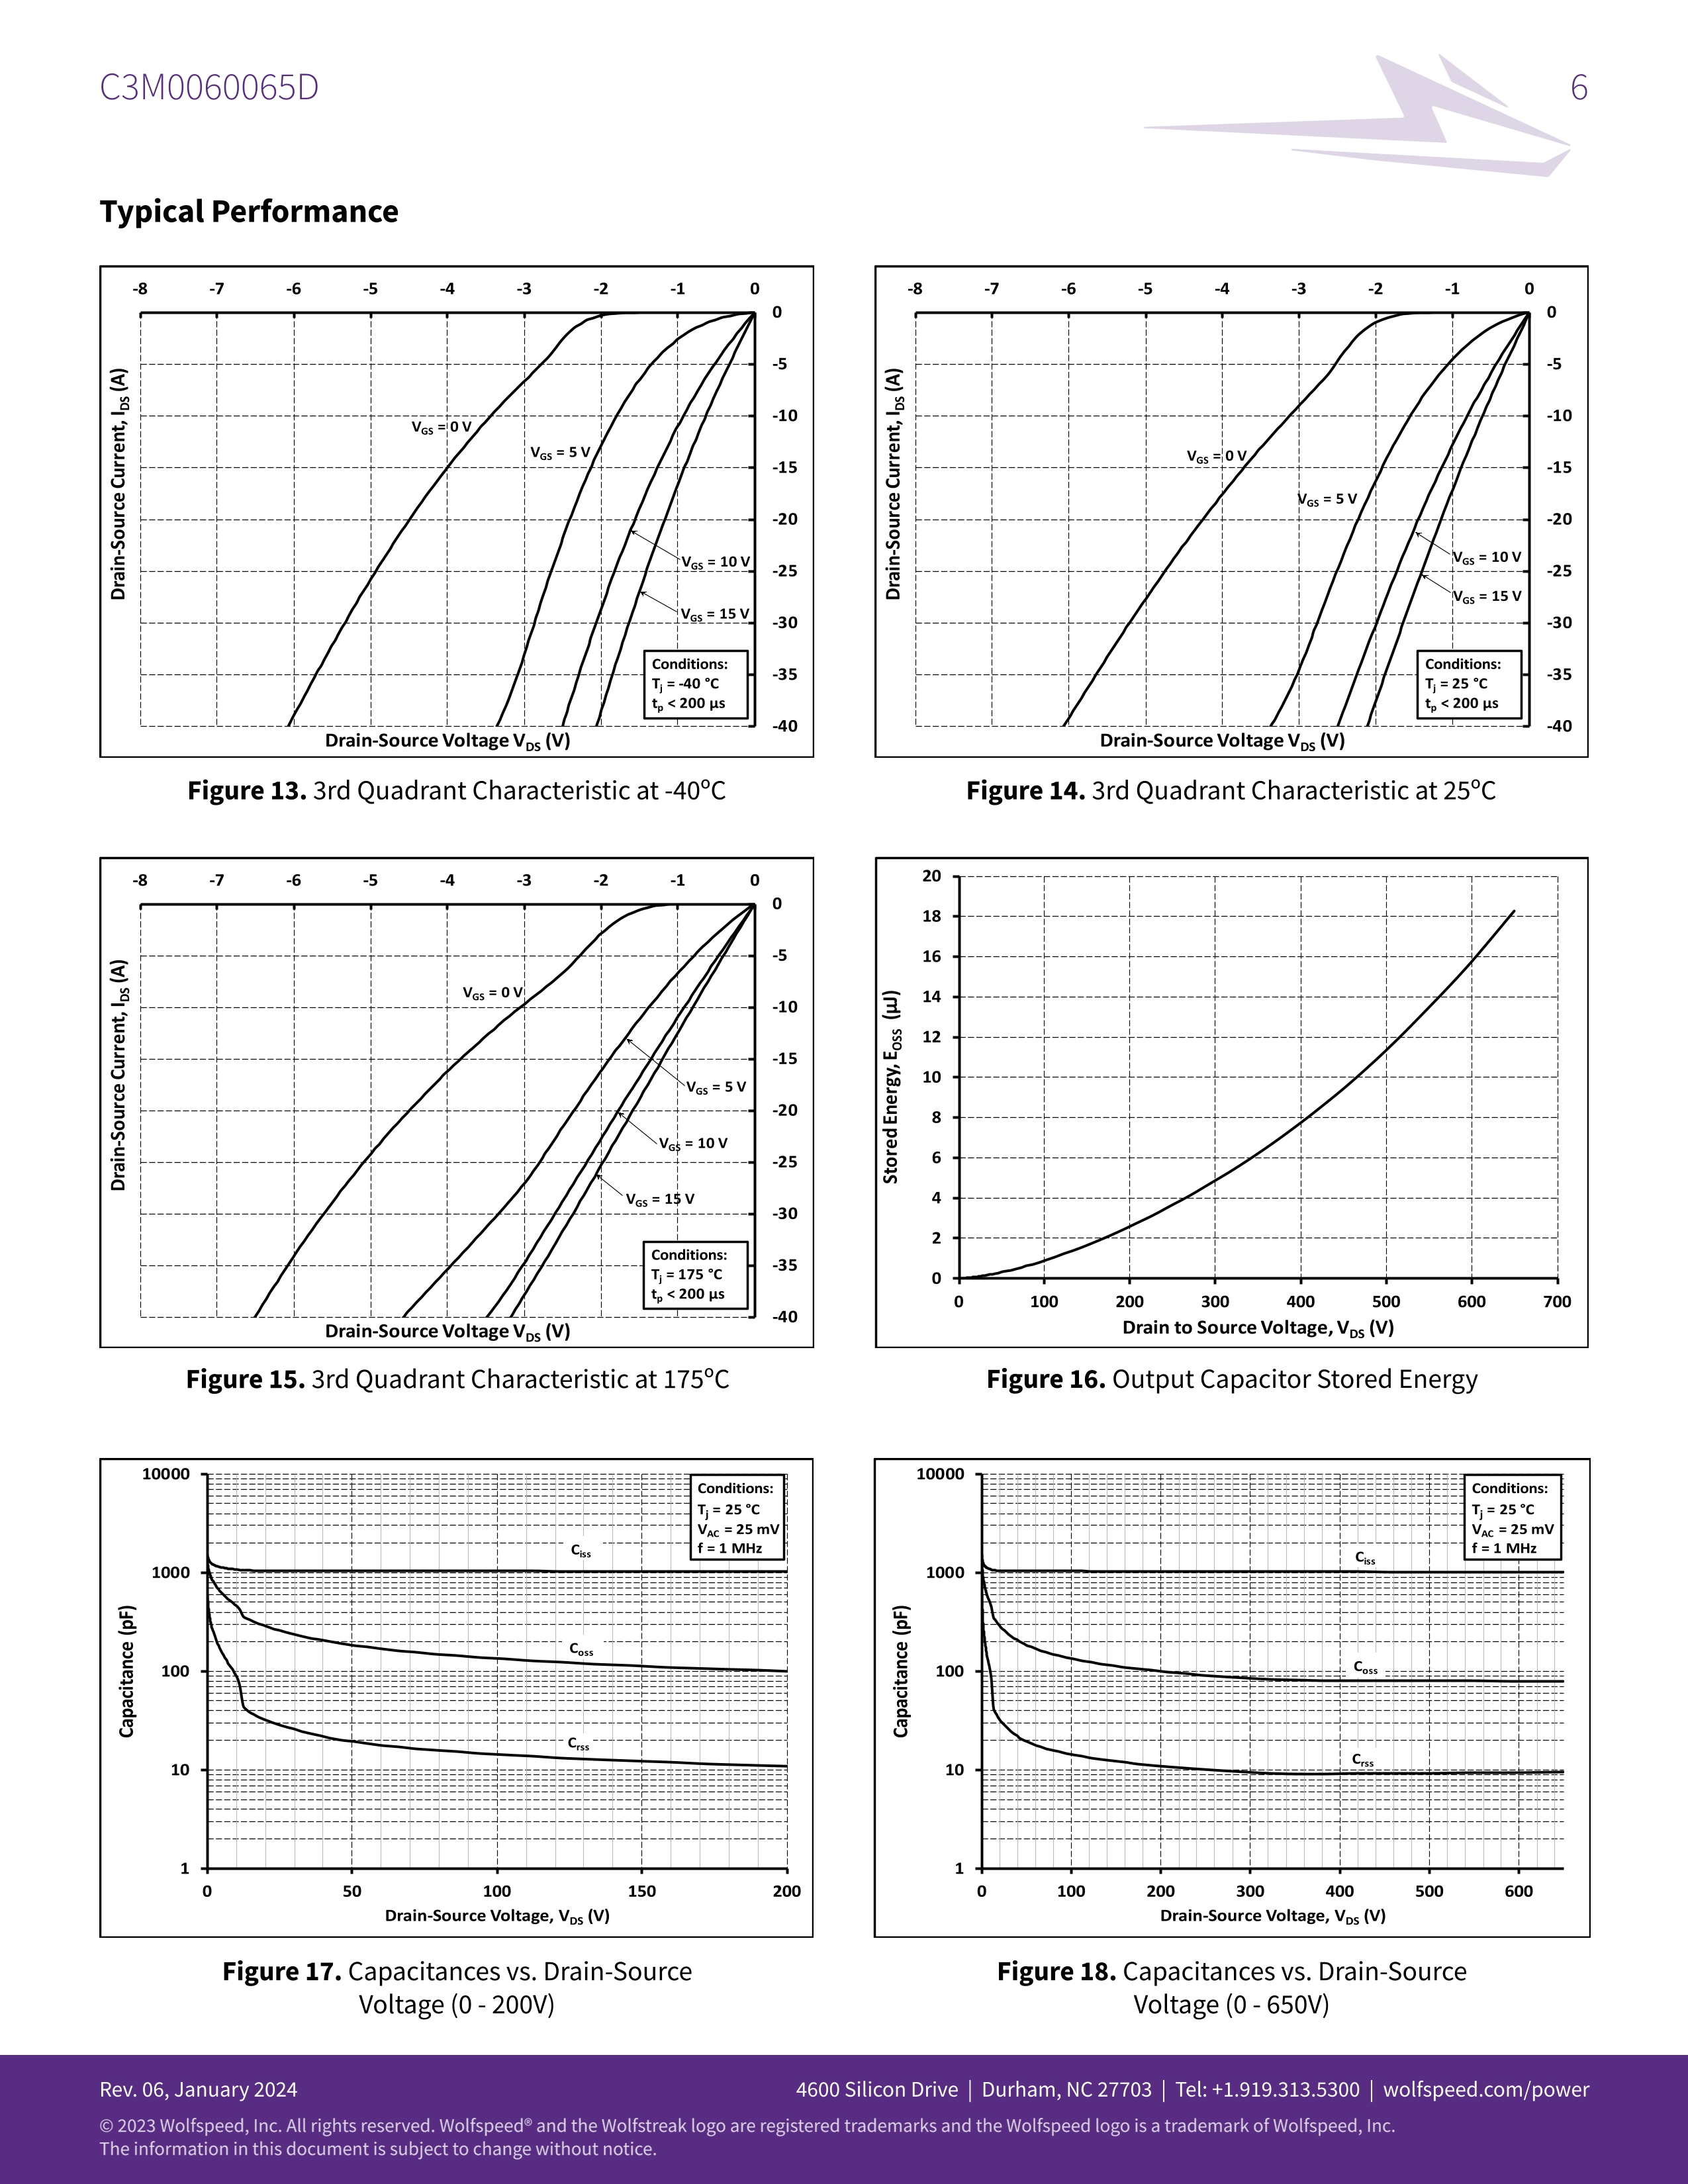diagram: (99, 856, 821, 1439), (874, 1457, 1589, 2039), (874, 266, 1596, 837), (876, 860, 1601, 1427), (99, 1461, 814, 2032), (99, 266, 817, 833)
